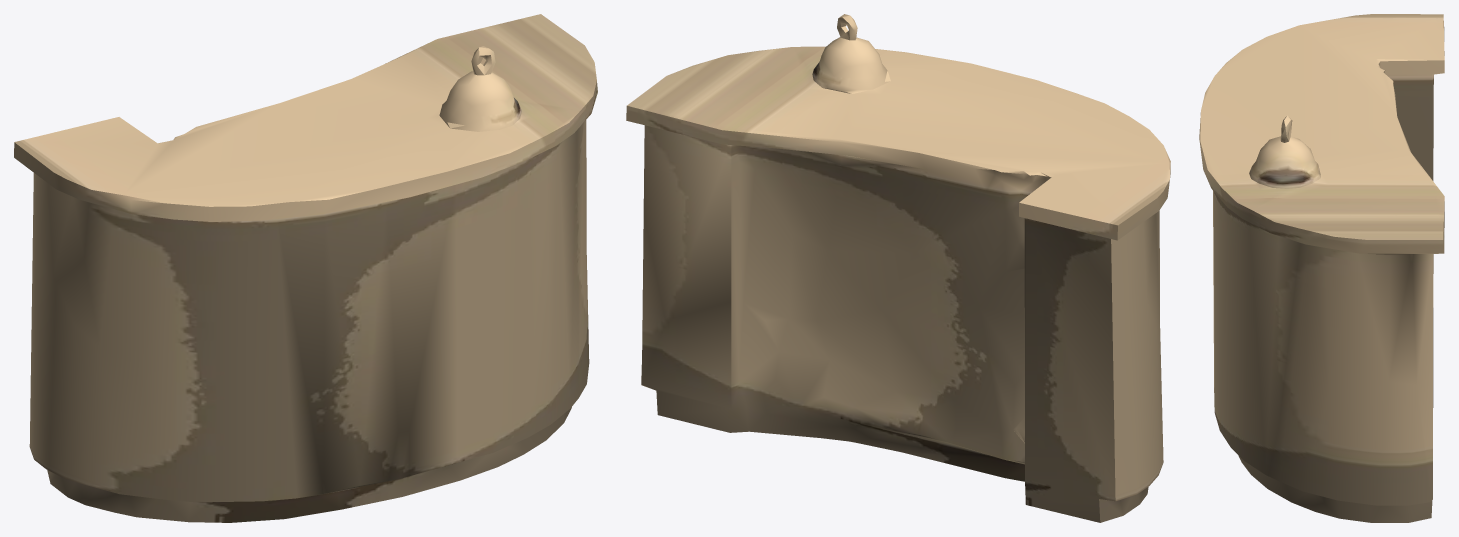
The picture shows the model from 3 angles, left to right: view 1: azimuth 30°, elevation 25°; view 2: azimuth 150°, elevation 25°; view 3: azimuth 270°, elevation 25°; orthographic projection. The views are drawn at different scales.
Parts seen in each view (by area): view 1: Decor_info_desk_a; view 2: Decor_info_desk_a; view 3: Decor_info_desk_a.
Boxes of the visible parts, bbox=[...] form: Decor_info_desk_a: bbox=[14, 14, 597, 522]; Decor_info_desk_a: bbox=[626, 14, 1170, 522]; Decor_info_desk_a: bbox=[1199, 14, 1444, 522].
Size of the model in its own units: 1.52 by 1.1 by 0.6975.
Materials: 1 (1 with a texture image).
